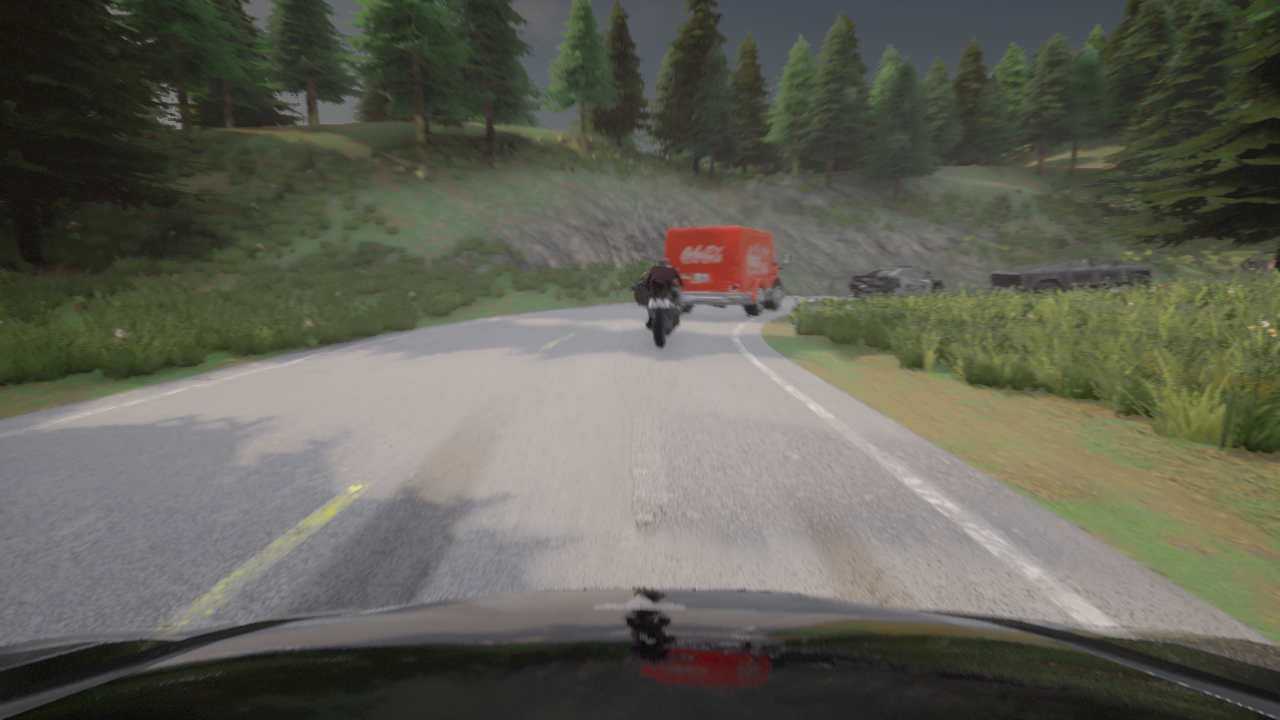cyclist: (0, 588, 1279, 719), (665, 226, 789, 315), (991, 255, 1152, 295), (643, 274, 689, 347), (849, 265, 944, 298), (1234, 250, 1276, 280), (633, 277, 649, 304)
